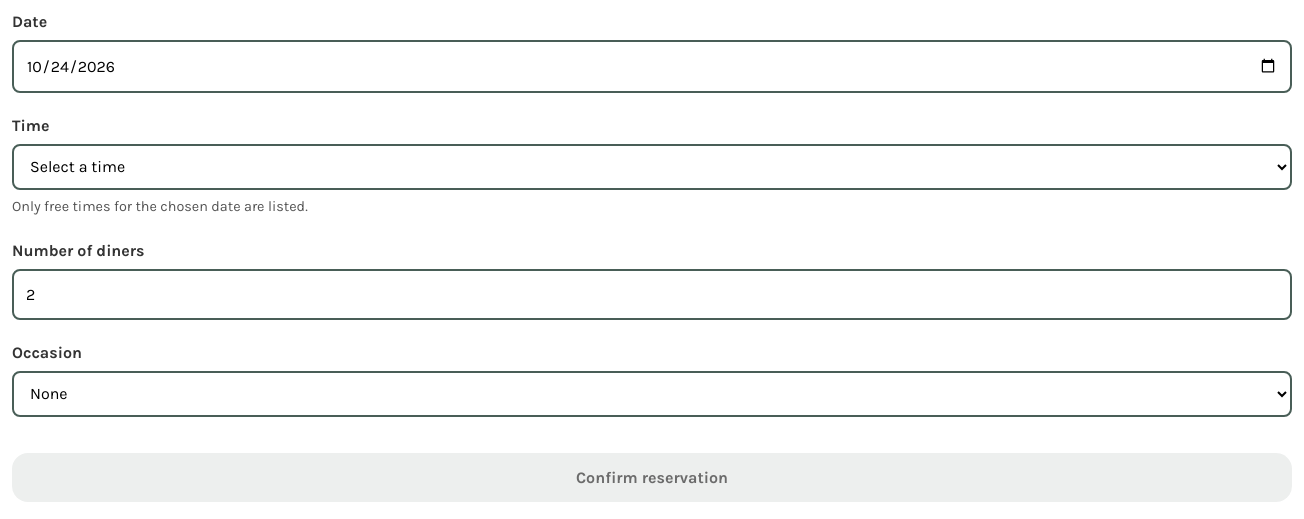
submit is disabled until a time is chosen
The width and height of the screenshot is (1304, 519).
expect the button "Confirm reservation" is disabled: met, box [12,453,1292,502]
Select "18:30" in the dropdown labelled "Time" at (652, 167), box [12,144,1292,190]
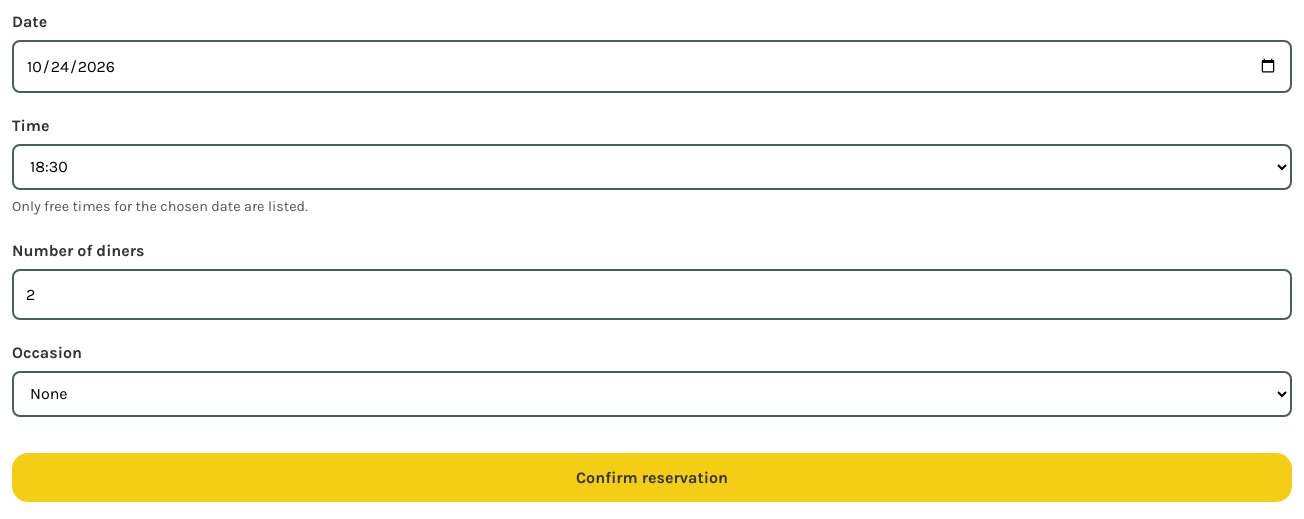
expect the button "Confirm reservation" is enabled: met, box [12,453,1292,502]
